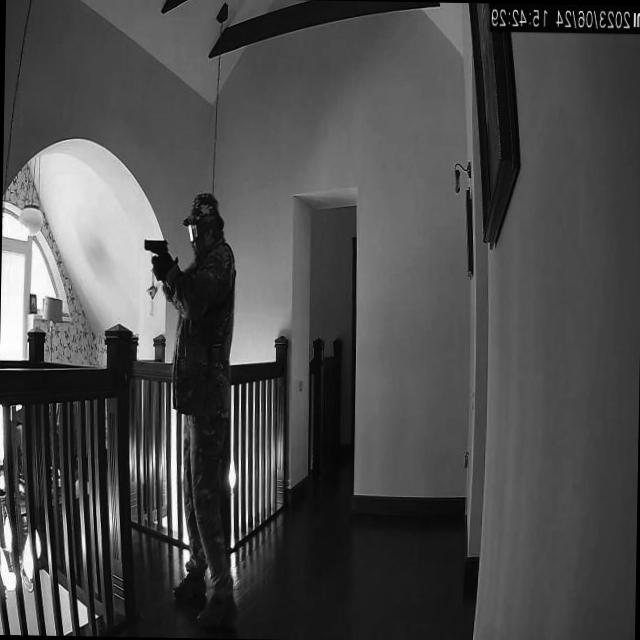gun: (142, 234, 170, 272)
person with a gun: (173, 187, 240, 635)
